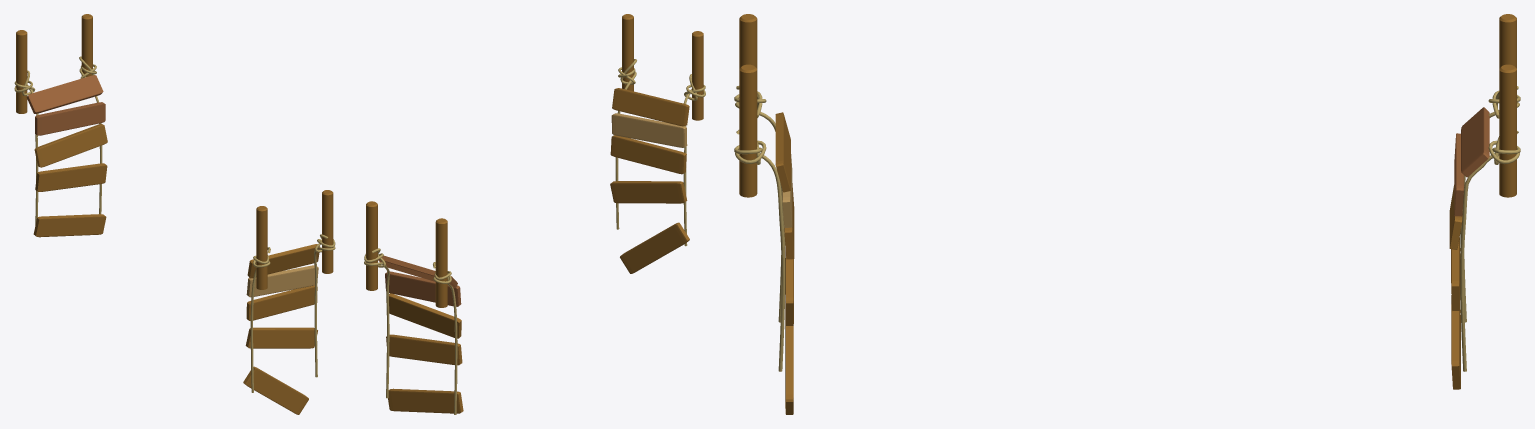
The model's file is Bridge_Broken_Color.fbx.
3 renders of one model, left to right at view 1: azimuth 30°, elevation 25°; view 2: azimuth 150°, elevation 25°; view 3: azimuth 270°, elevation 25°, orthographic. The views are drawn at different scales.
Parts seen in each view (by area): view 1: Brücke_Kaputt; view 2: Brücke_Kaputt; view 3: Brücke_Kaputt.
Boxes of the visible parts, x1,y1,x2,y2 form: Brücke_Kaputt: (14,14,335,414); Brücke_Kaputt: (364,14,705,414); Brücke_Kaputt: (734,14,1520,414).
Bounding box in the file's own units: 307 × 830 × 1643.
